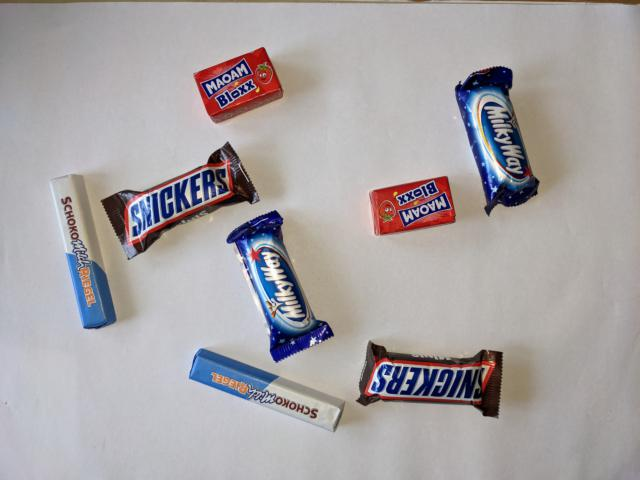MAOAM: (190, 45, 286, 126), (364, 174, 458, 240)
MilkyWay: (224, 208, 338, 365), (452, 63, 542, 219)
Schokoriegel: (186, 347, 349, 435), (44, 170, 118, 332)
Snickers: (98, 139, 264, 263), (352, 337, 506, 422)
